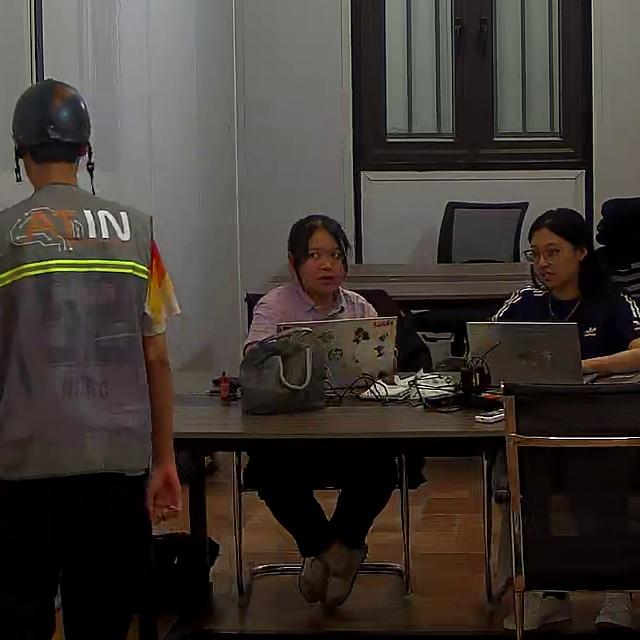helmet: (11, 78, 94, 151)
no_helmet: (286, 214, 353, 282), (528, 207, 594, 260)
none: (491, 283, 638, 362), (241, 276, 378, 360)
